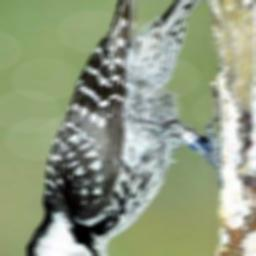Woodpecker: (27, 0, 223, 256)
